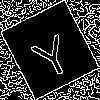Y: (25, 25, 77, 81)
